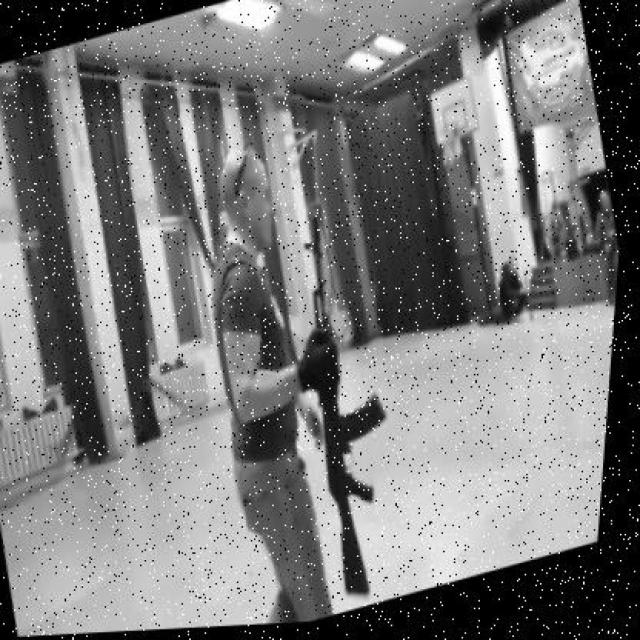weapon: (307, 213, 388, 599)
